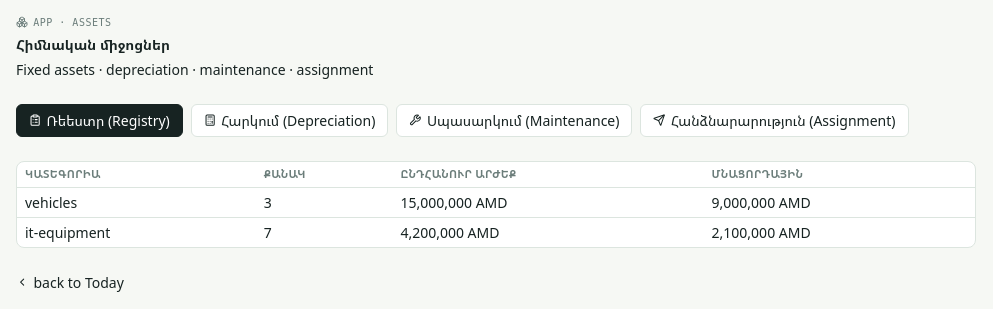
Assets — tab switching › clicking the depreciation tab reveals the assets-depreciation panel
Click the tab with test id "assets-tab-depreciation". click: click(290, 120)
box: [191,104,388,137]
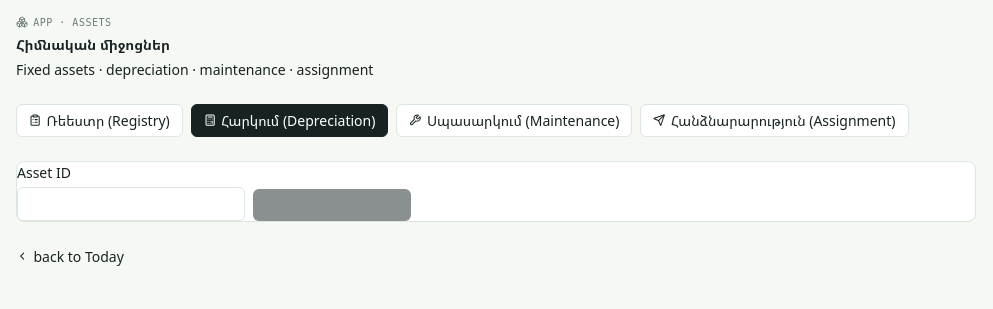
Expected: the element with test id "assets-depreciation" is shown, [17,163,412,220]
